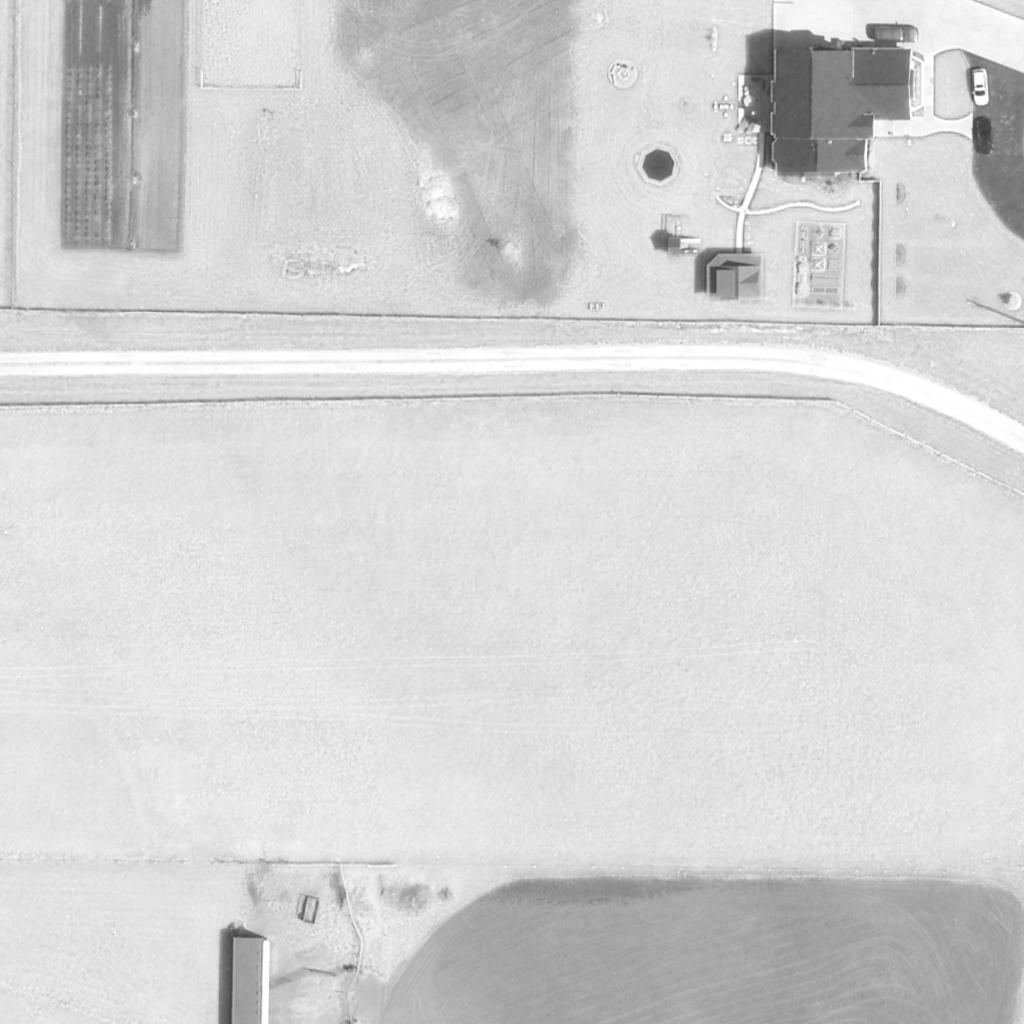vehicle: (973, 115, 995, 161), (871, 24, 919, 44), (972, 67, 992, 107)
